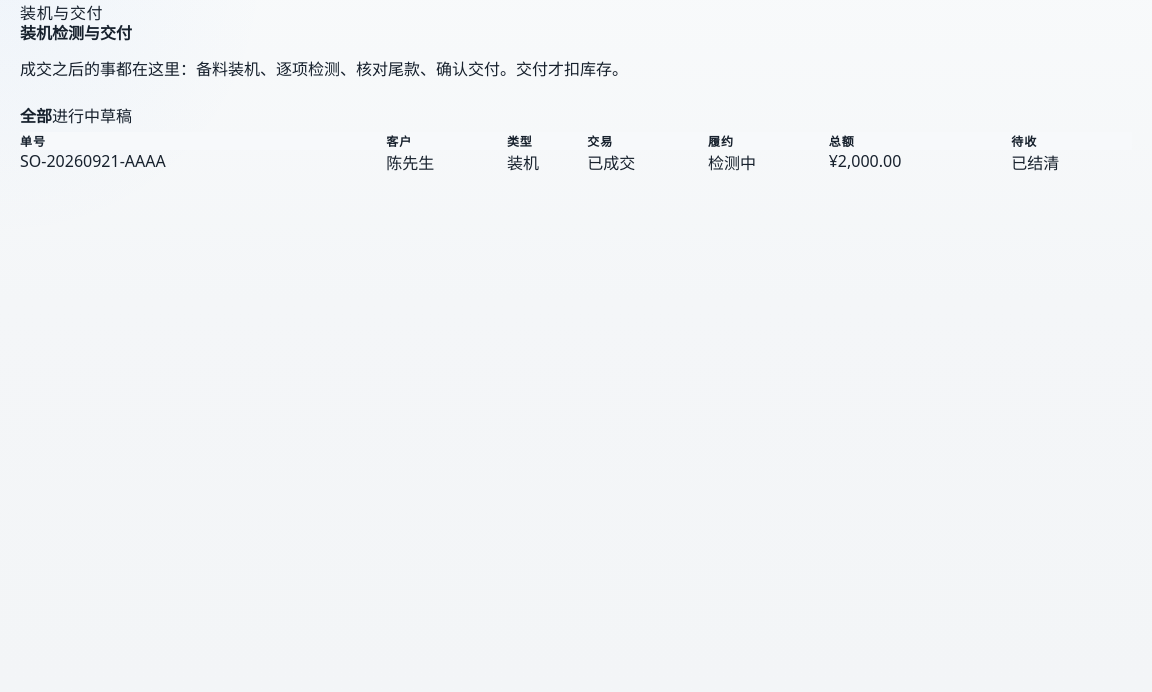
WorkbenchFulfillmentPage › 列表按履约阶段显示；打开详情后闸门逐条可见
Expected: the text "检测中" is shown, [708,150,756,174]
Click the button "SO-20260921-AAAA": (93, 161) [20,150,166,172]
(page scrolled)
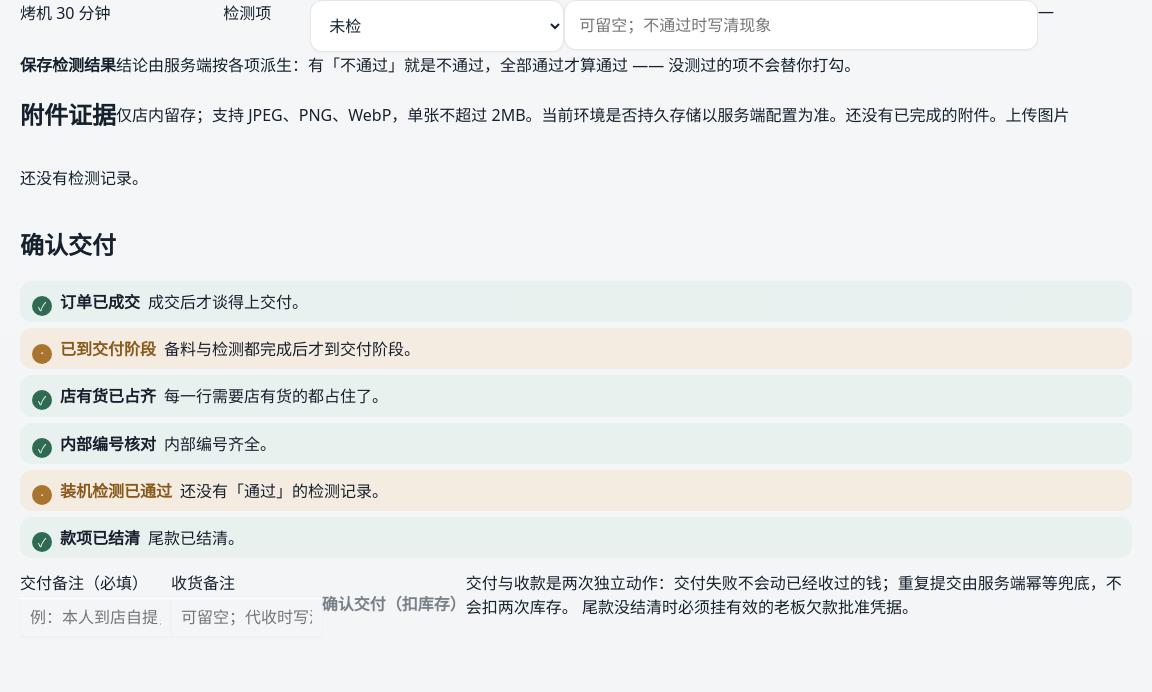
Expected: the heading "确认交付" is shown, [20,228,116,261]
Expected: the text "订单已成交" is shown, [60,289,140,313]
Expected: the text "已到交付阶段" is shown, [60,336,156,360]
